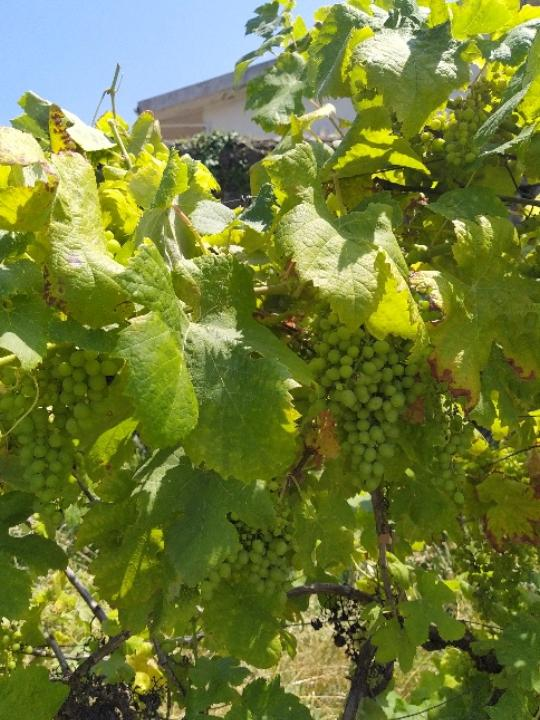grape: (305, 295, 422, 493), (0, 347, 120, 527), (197, 498, 295, 608)
